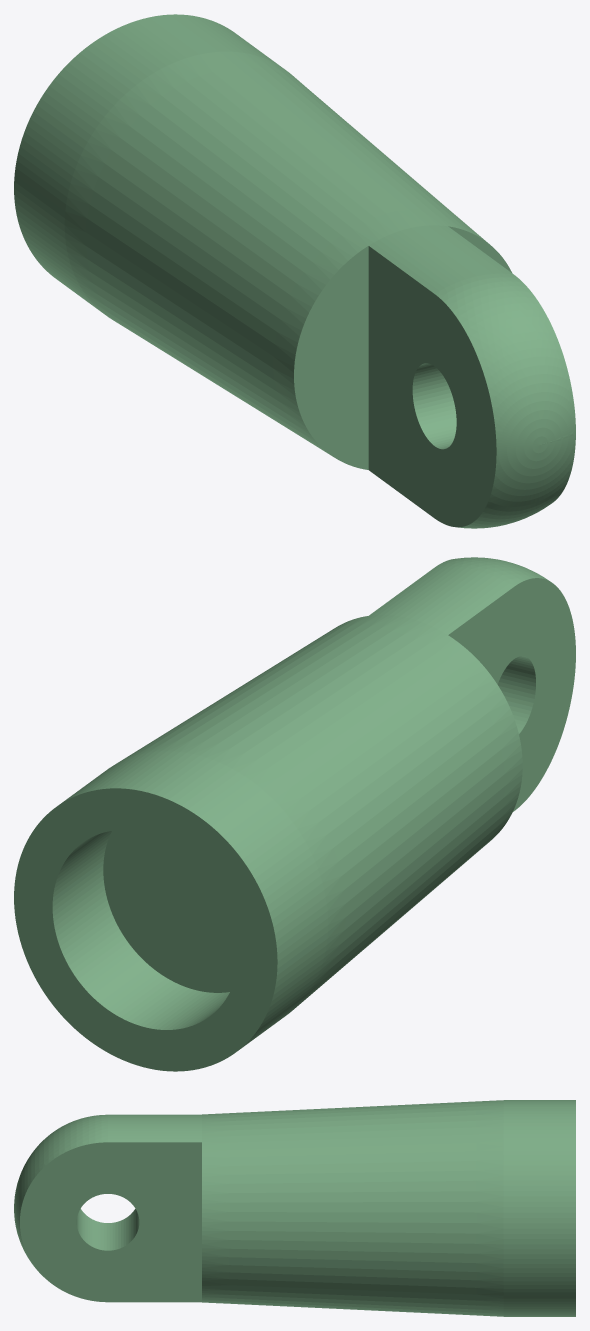
3 views of the same model, one above another, from view 1: azimuth 30°, elevation 25°; view 2: azimuth 150°, elevation 25°; view 3: azimuth 270°, elevation 25° (orthographic). The views are drawn at different scales.
Visible parts, largest first — view 1: node; view 2: node; view 3: node.
Part boxes in pixels (x1,y1,x2,y2): node: (14,14,575,528); node: (14,557,575,1071); node: (14,1100,575,1316).
Bounding box in the file's own units: 0.0718 × 0.0718 × 0.1863.
